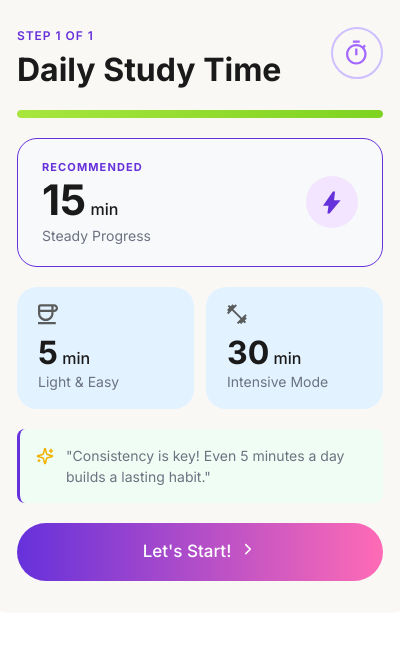
OnboardingPage › shows error and stays on page when update fails
The image size is (400, 649).
Click the button "Let's Start!" at (200, 552), box x1=17 y1=523 x2=383 y2=581
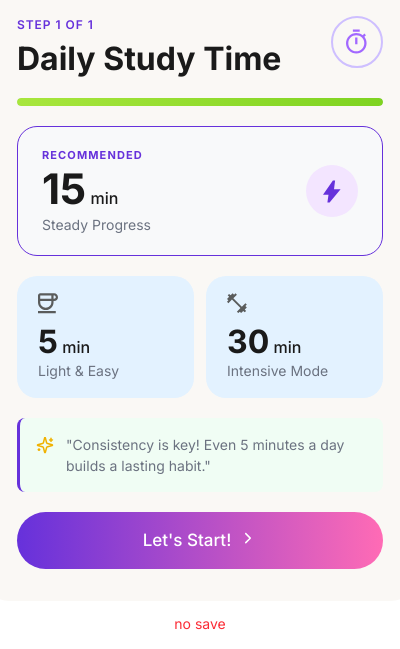
Expected: the text "no save" is shown, x1=174 y1=615 x2=226 y2=632
